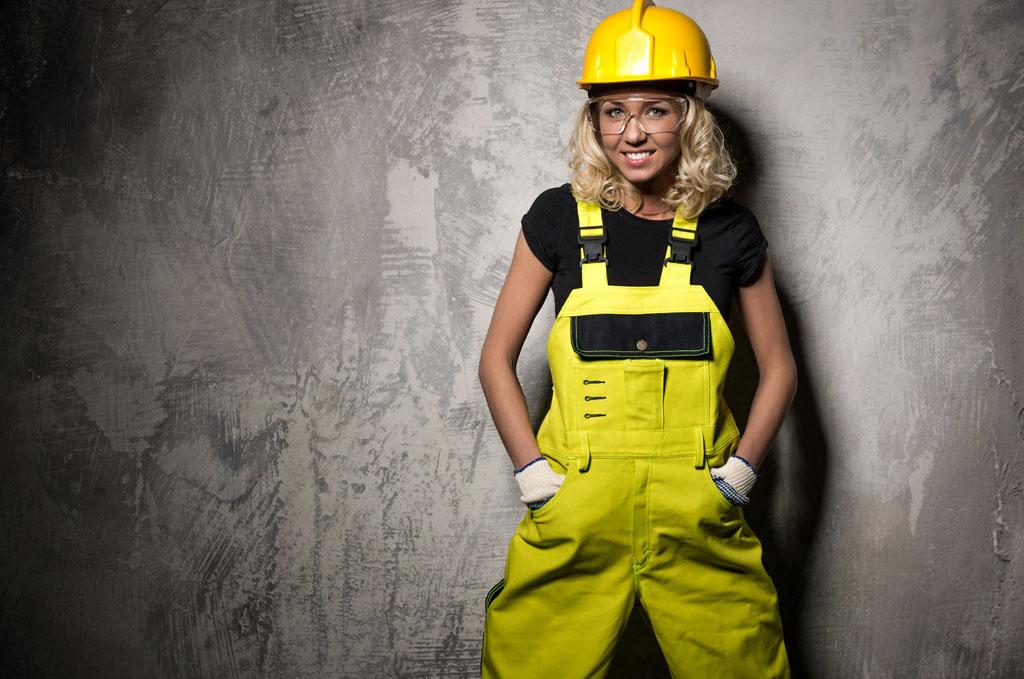helmet: (583, 3, 718, 90)
